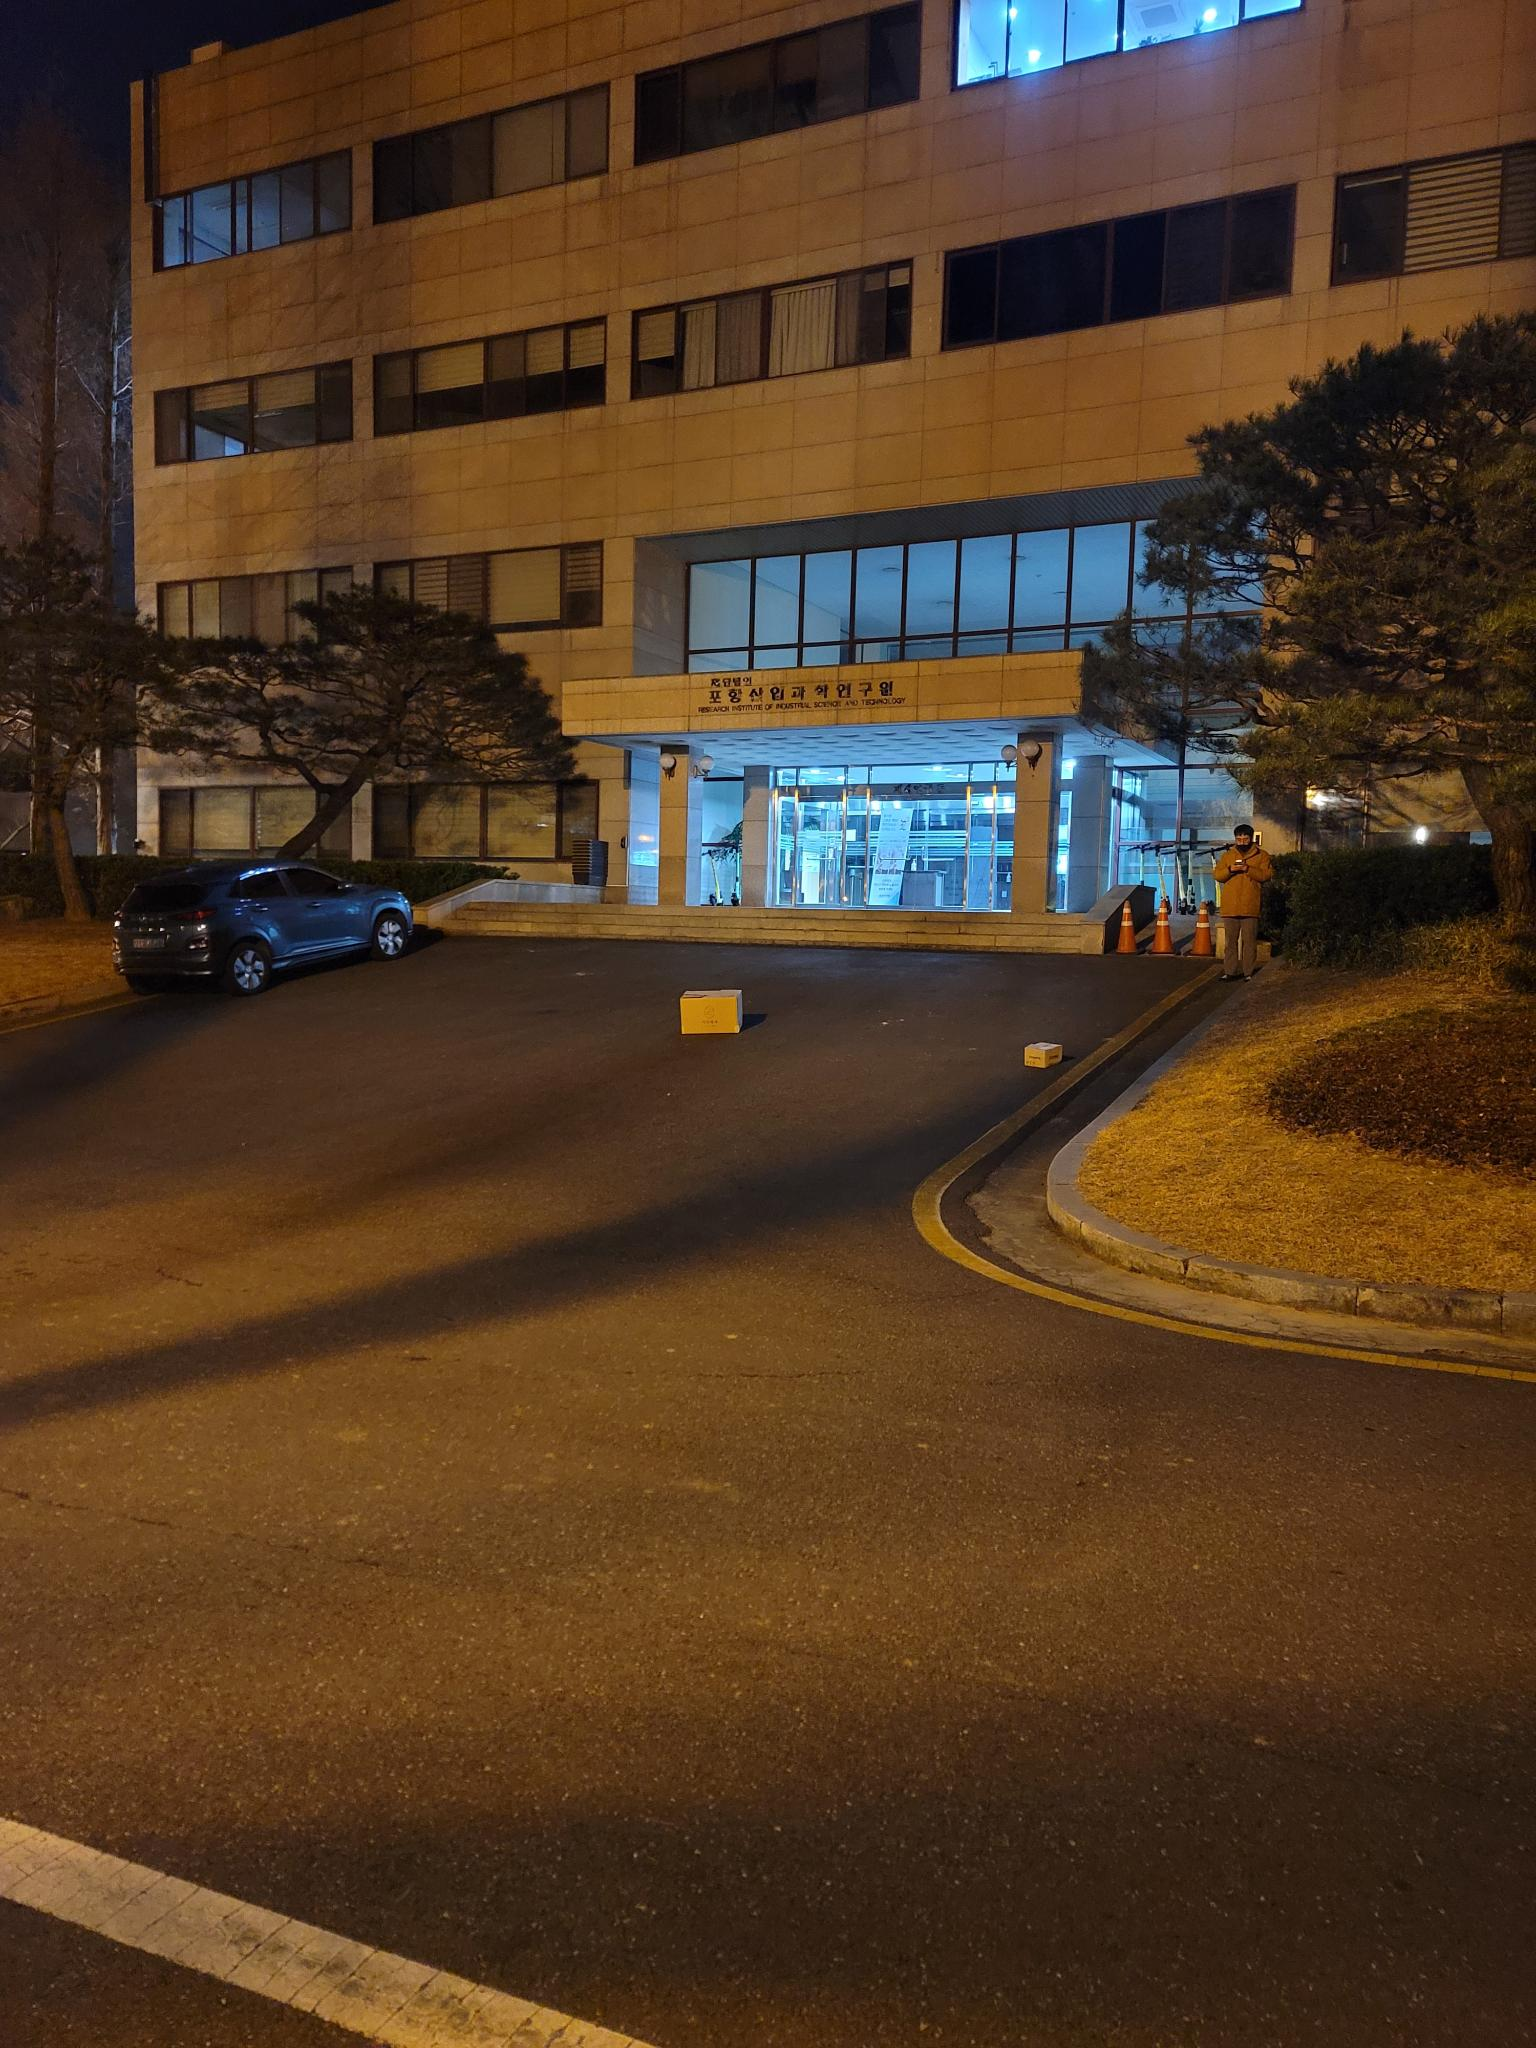Box: (674, 984, 755, 1045), (1010, 1037, 1065, 1069)
